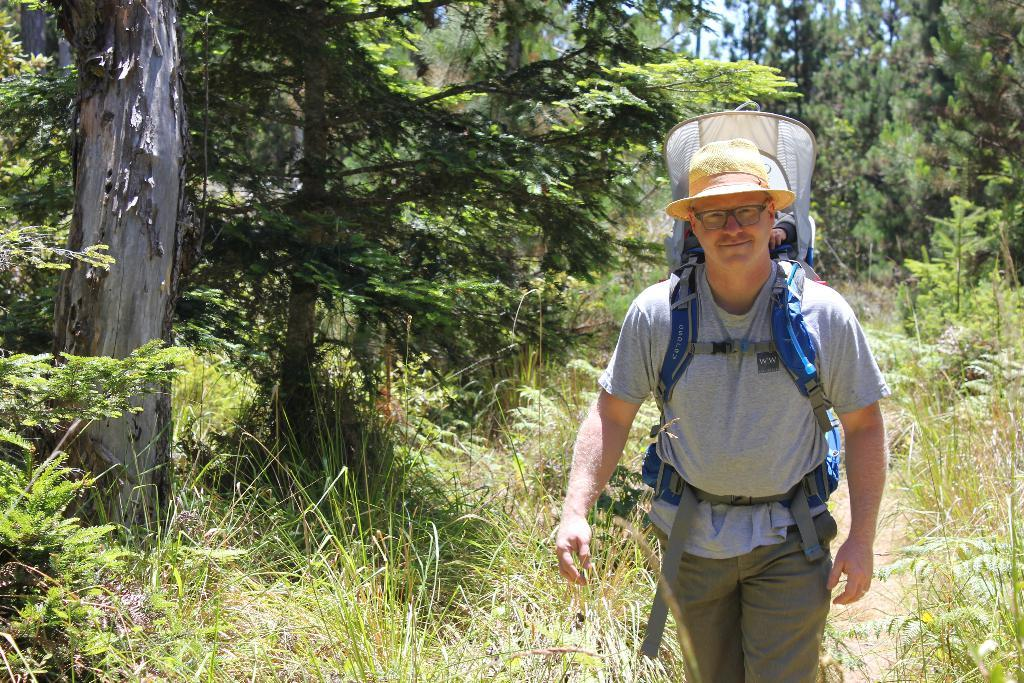Hat: (664, 136, 794, 222)
